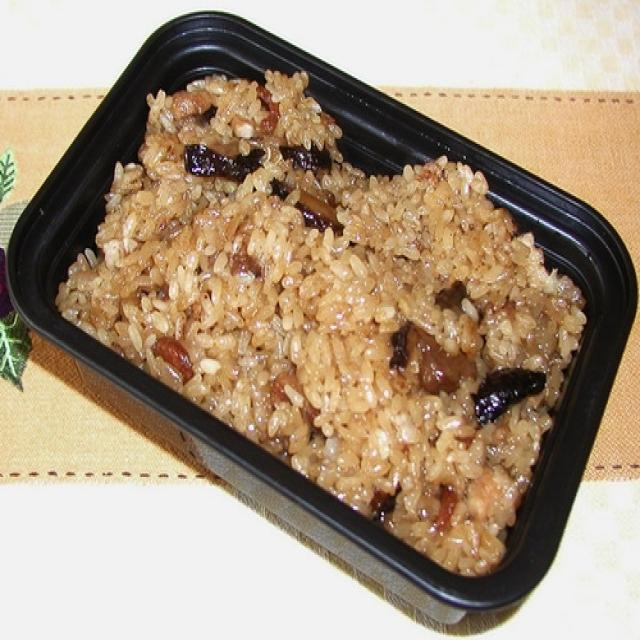米饭主食: (5, 16, 635, 626)
